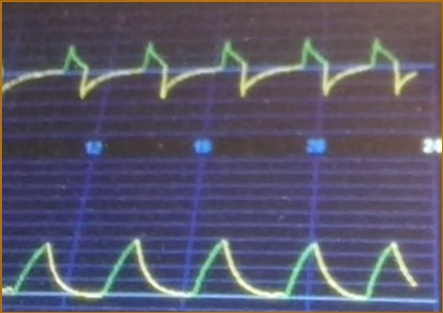Normal Flow: (4, 30, 425, 119)
Normal Volume: (5, 217, 421, 308)
